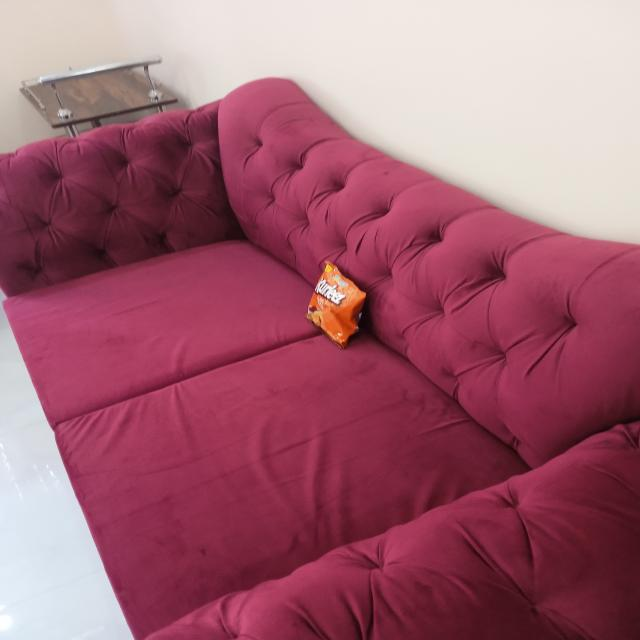Plastic: (308, 263, 370, 346)
